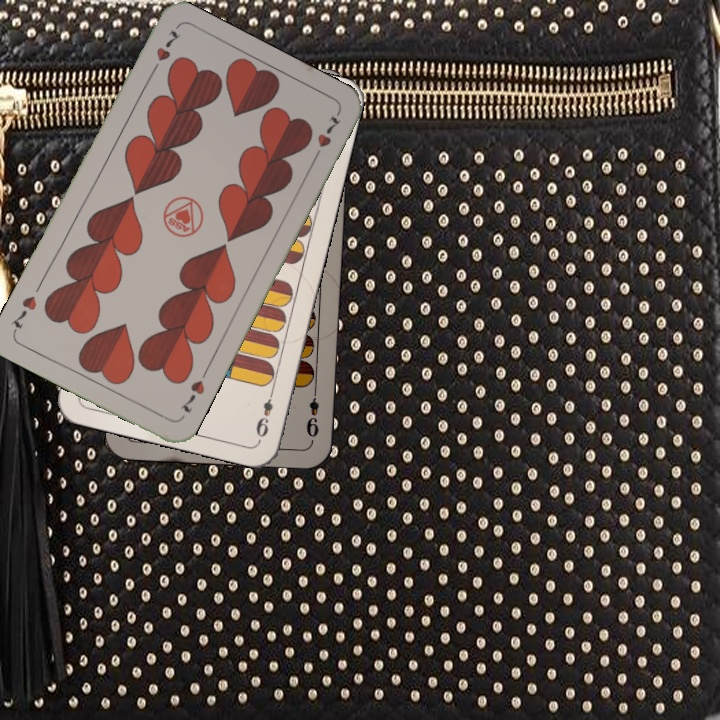E9: (252, 384, 277, 440), (302, 384, 322, 440)
H7: (145, 25, 183, 78), (176, 376, 207, 416)
